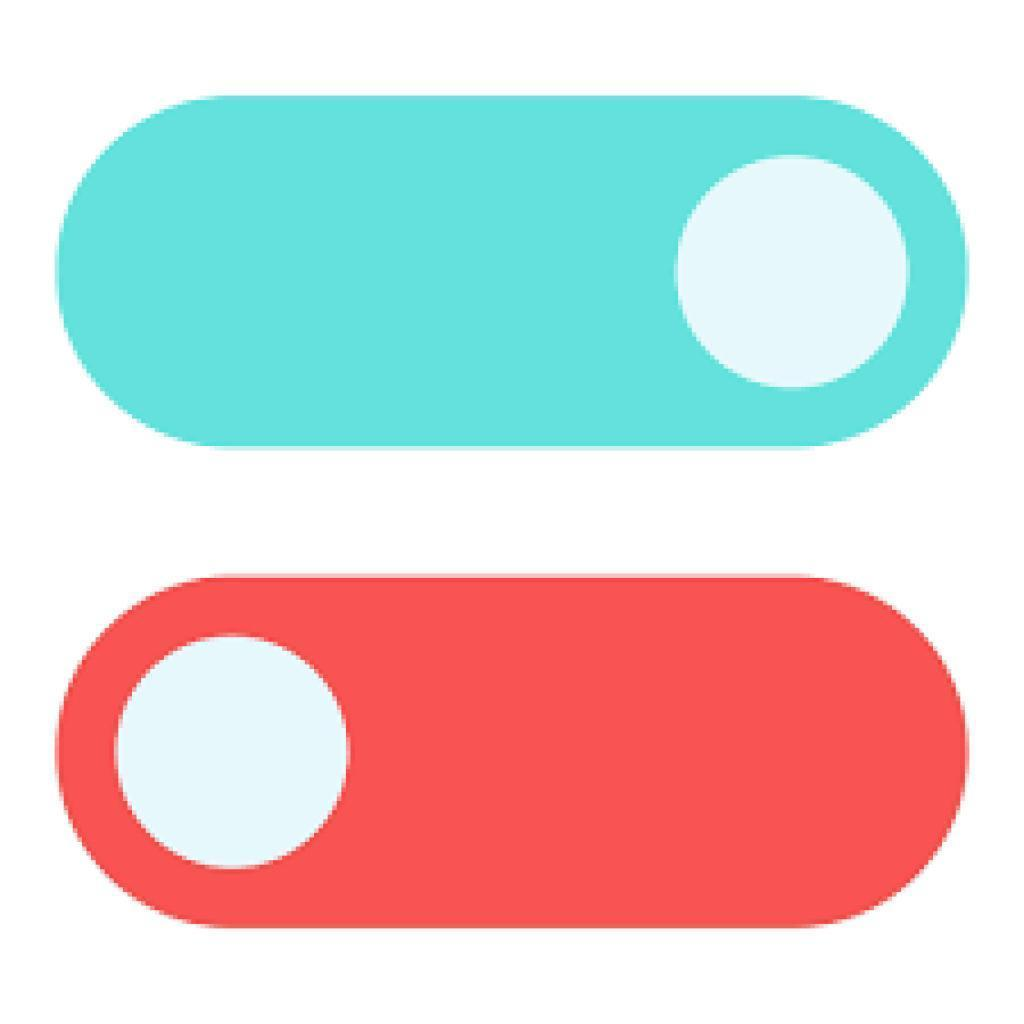checkbox: (58, 576, 967, 930), (54, 100, 970, 446)
